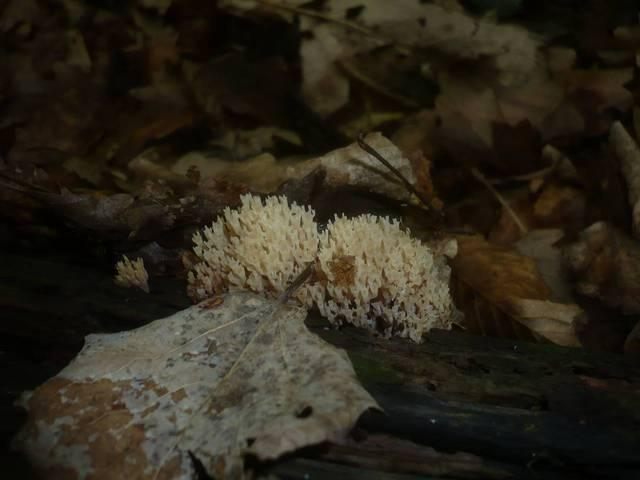Edible Mushroom: (184, 190, 464, 344)
